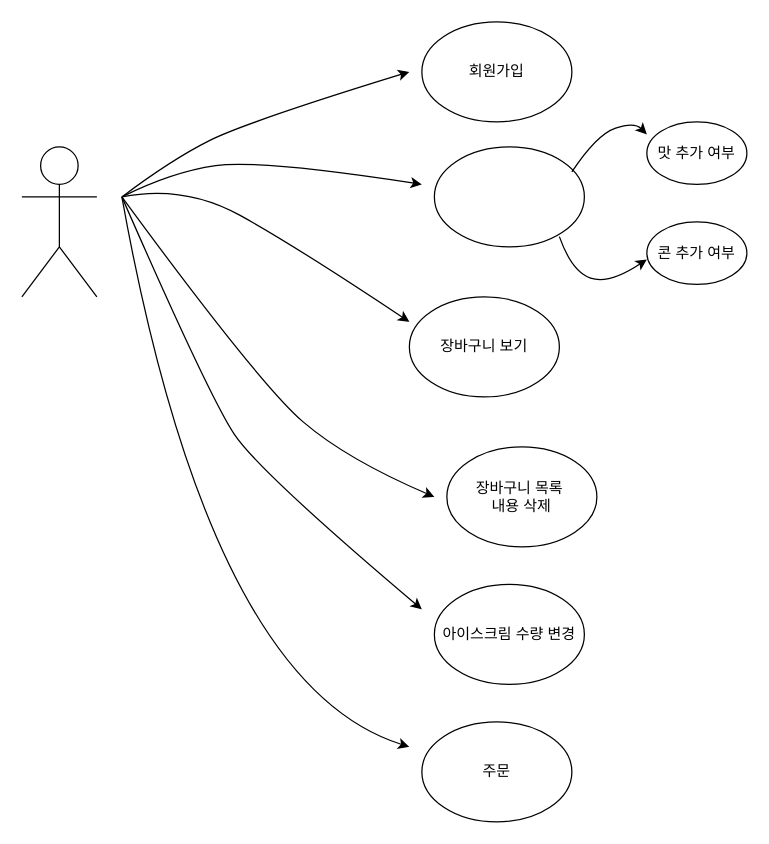
This 769x844 diagram has some shape labels left out. Here are the shapes that lost their labels. From the top down, the centre of each, then its label:
At point (508, 196): "아이스크림 메뉴".
At point (59, 221): "user".
